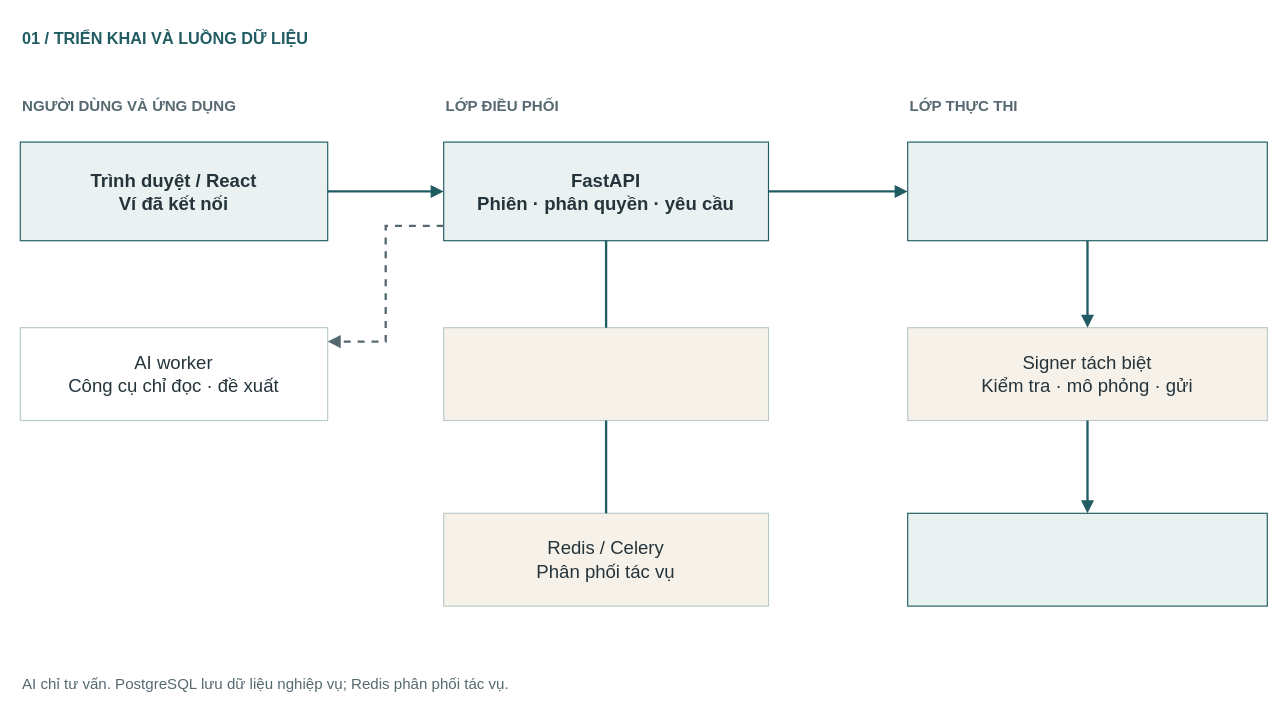
Some shapes in this 1288 by 728 pixel diagram are drawn without their labels. Here are the shapes that lost their labels. From the top down, the centre of each, then its label:
At (x=1087, y=191): "Core worker + py-core Engine xác định · policy".
At (x=605, y=373): "PostgreSQL Trạng thái · kế hoạch · outbox · audit".
At (x=1087, y=559): "TreasuryPilotModule + Safe Tích hợp Aave / EAS".
